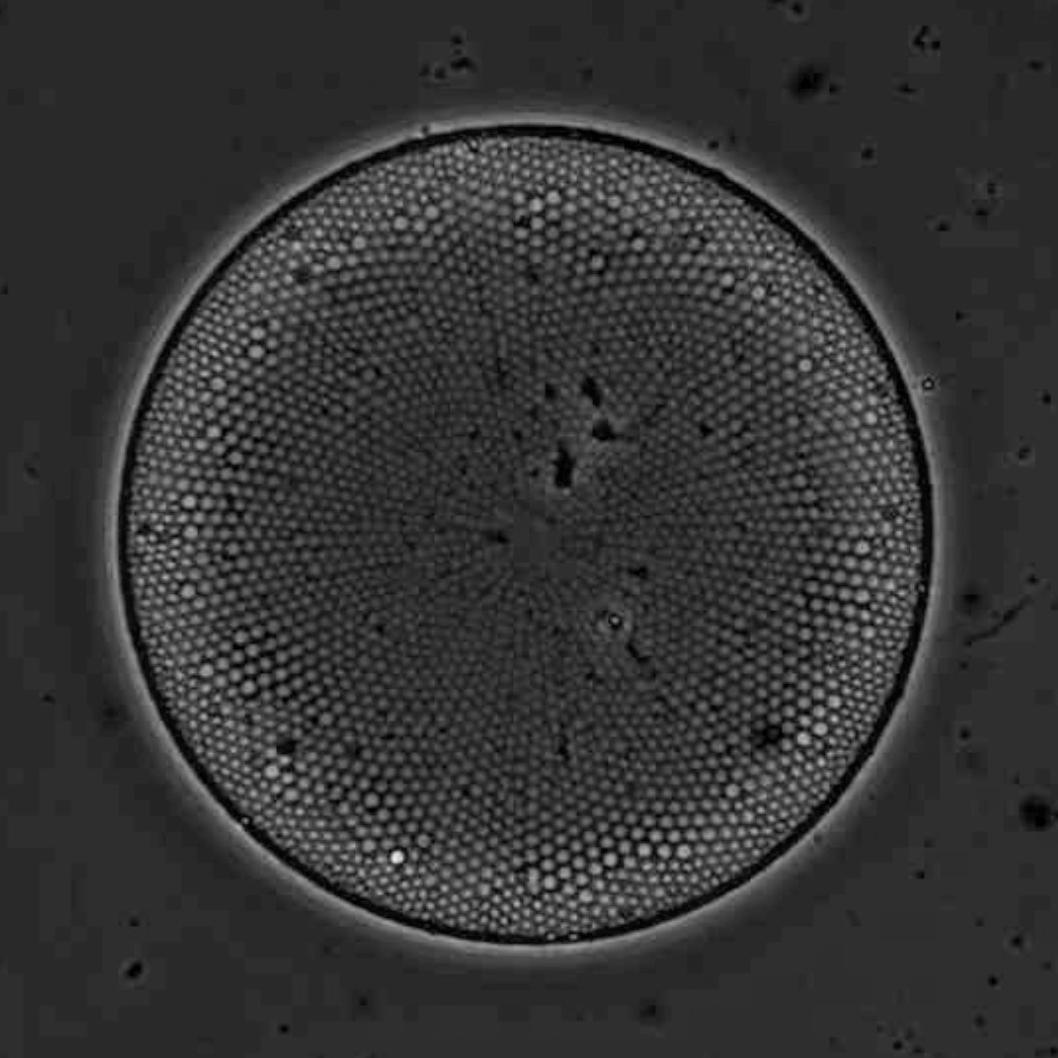coscinodiscus_oculus_iridis: (116, 121, 937, 948)
